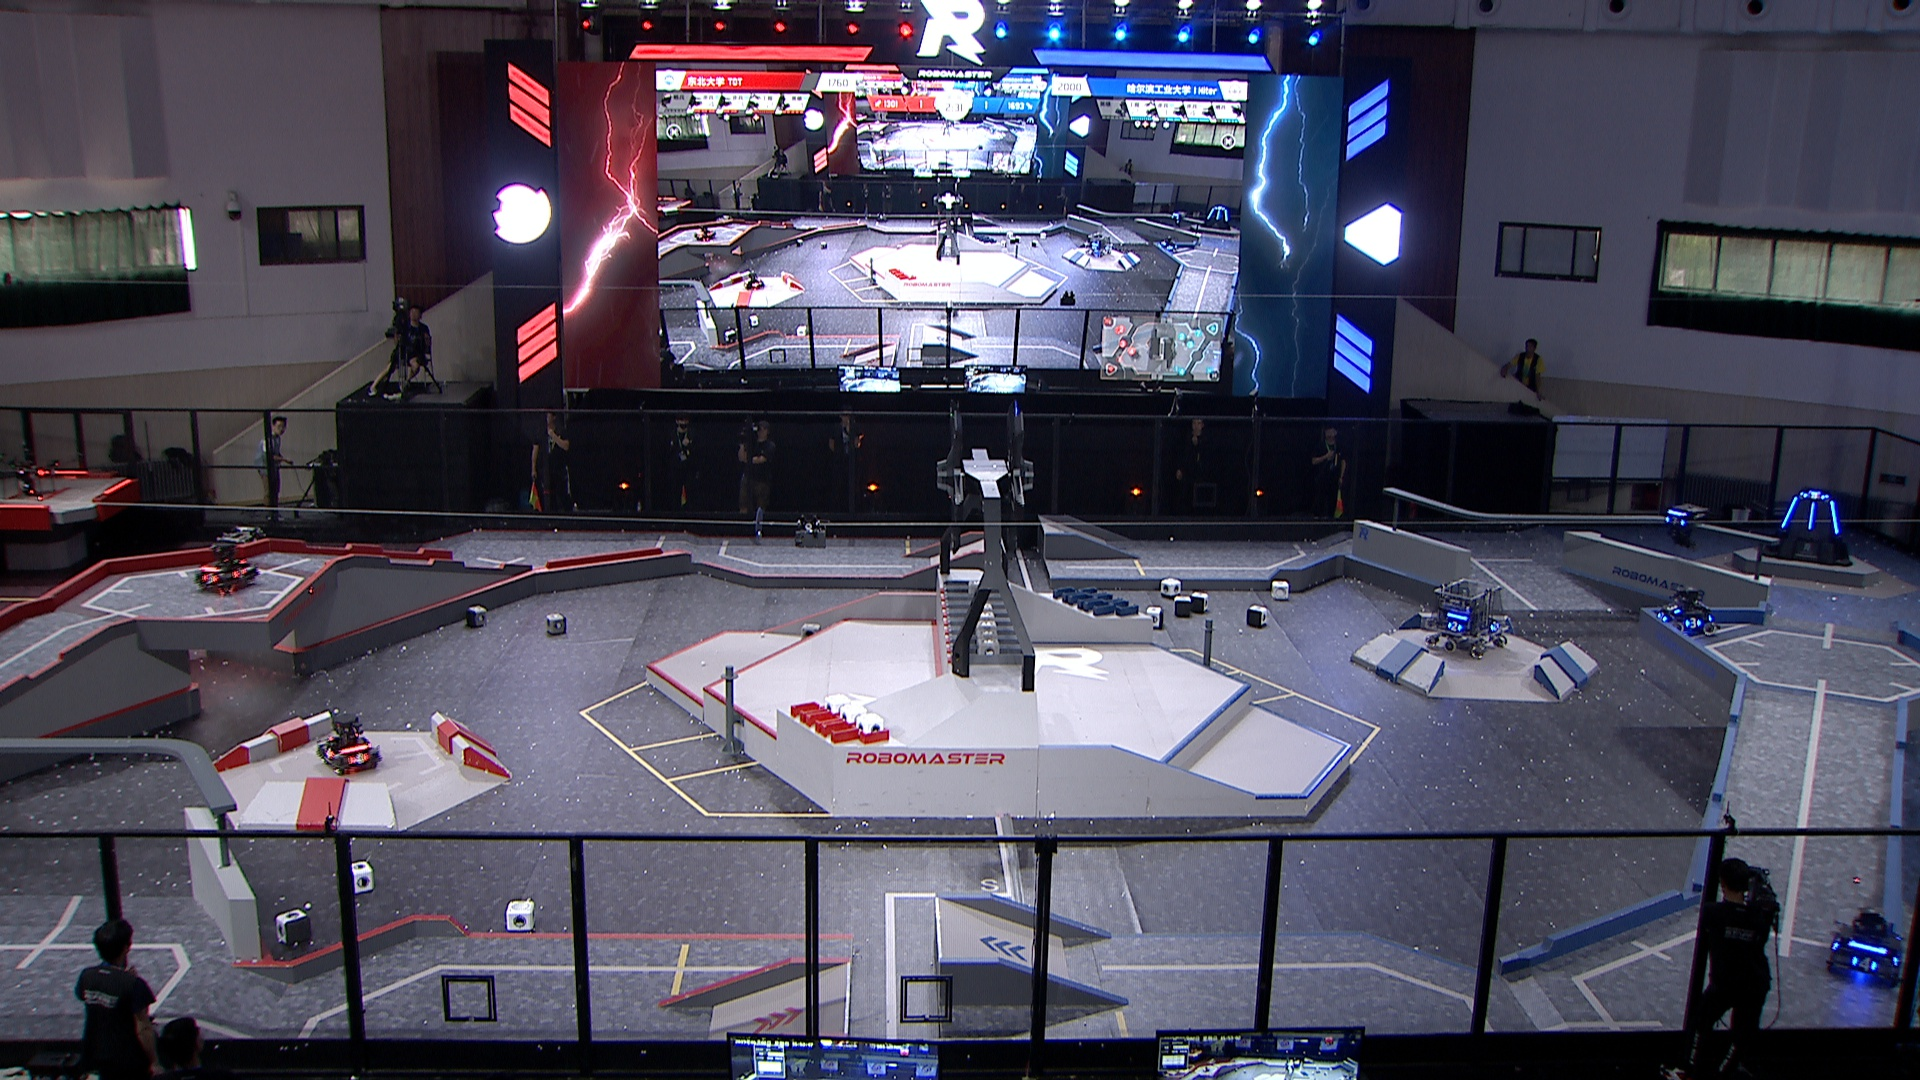armor: (1778, 495, 1799, 531), (1850, 953, 1882, 973), (1826, 496, 1841, 537), (1804, 498, 1818, 531), (345, 750, 368, 766), (1655, 608, 1673, 626), (1803, 489, 1828, 502), (1664, 514, 1687, 527), (200, 570, 219, 585), (1665, 599, 1684, 615), (1683, 615, 1702, 629), (1447, 618, 1462, 636), (231, 564, 247, 579), (1486, 618, 1501, 632), (323, 745, 335, 760)
base: (1756, 484, 1858, 570)
car: (1422, 576, 1513, 659), (1822, 906, 1909, 986), (204, 520, 281, 600), (313, 711, 381, 775), (191, 535, 261, 593), (1651, 584, 1718, 638)
ignore: (1083, 229, 1112, 258), (1201, 204, 1234, 229), (740, 266, 765, 291), (690, 224, 717, 243), (1167, 206, 1187, 229), (1156, 233, 1179, 253)
watcher: (1660, 496, 1706, 553)
